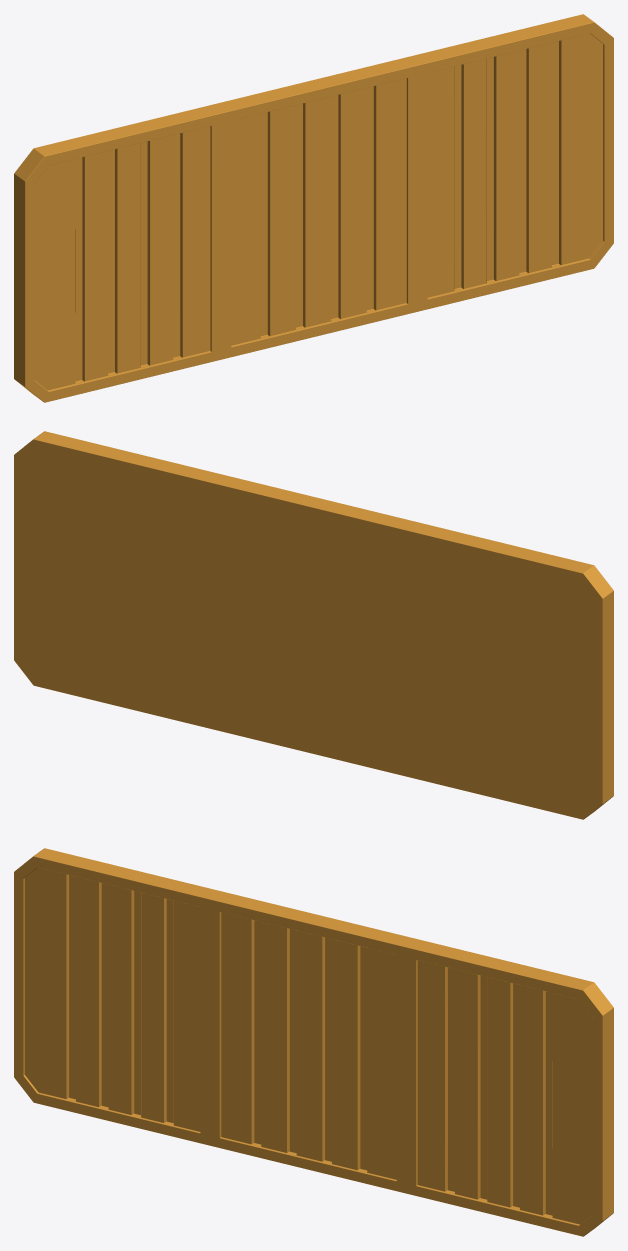
File: Yellow_Wallrun_15m.fbx
The picture shows the model from 3 angles, top to bottom: view 1: azimuth 30°, elevation 25°; view 2: azimuth 150°, elevation 25°; view 3: azimuth 330°, elevation 25°; orthographic projection.
Visible parts, largest first — view 1: Container.WallRun.15m; view 2: Container.WallRun.15m; view 3: Container.WallRun.15m.
Part boxes in pixels (x1=…): Container.WallRun.15m: x1=14, y1=14, x2=613, y2=402; Container.WallRun.15m: x1=14, y1=431, x2=613, y2=819; Container.WallRun.15m: x1=14, y1=848, x2=613, y2=1236.
Bounding box in the file's own units: 1500 × 600 × 50.
